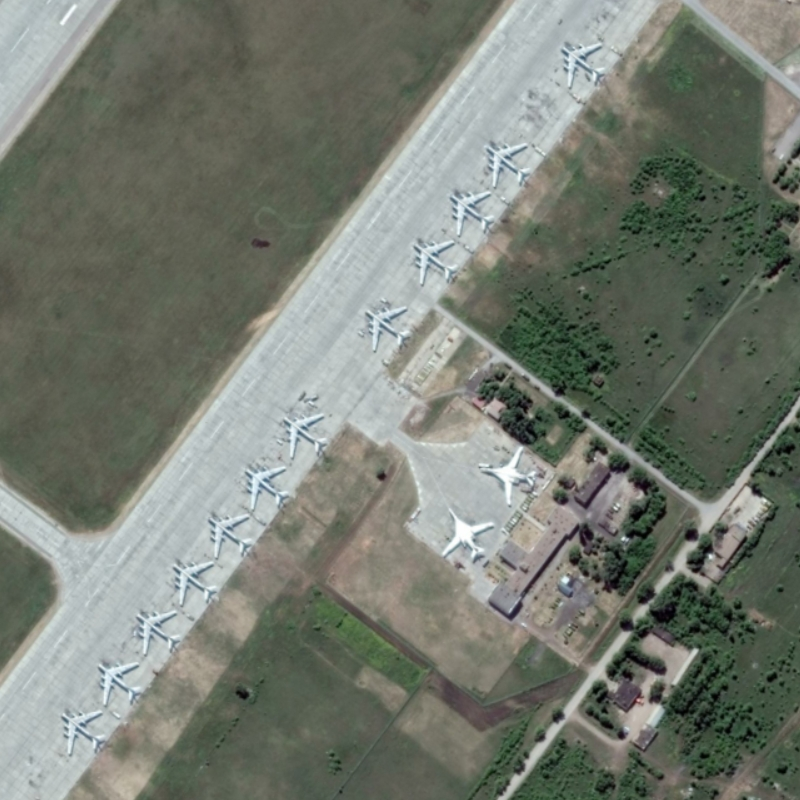A17: (277, 410, 334, 460), (132, 609, 185, 658), (482, 141, 533, 191), (241, 462, 292, 512), (168, 558, 219, 608), (556, 41, 608, 90), (409, 238, 462, 286), (362, 305, 416, 352), (95, 659, 145, 709), (446, 189, 497, 238), (60, 707, 109, 757), (206, 513, 255, 561)
A6: (479, 444, 540, 511), (435, 505, 498, 561)
